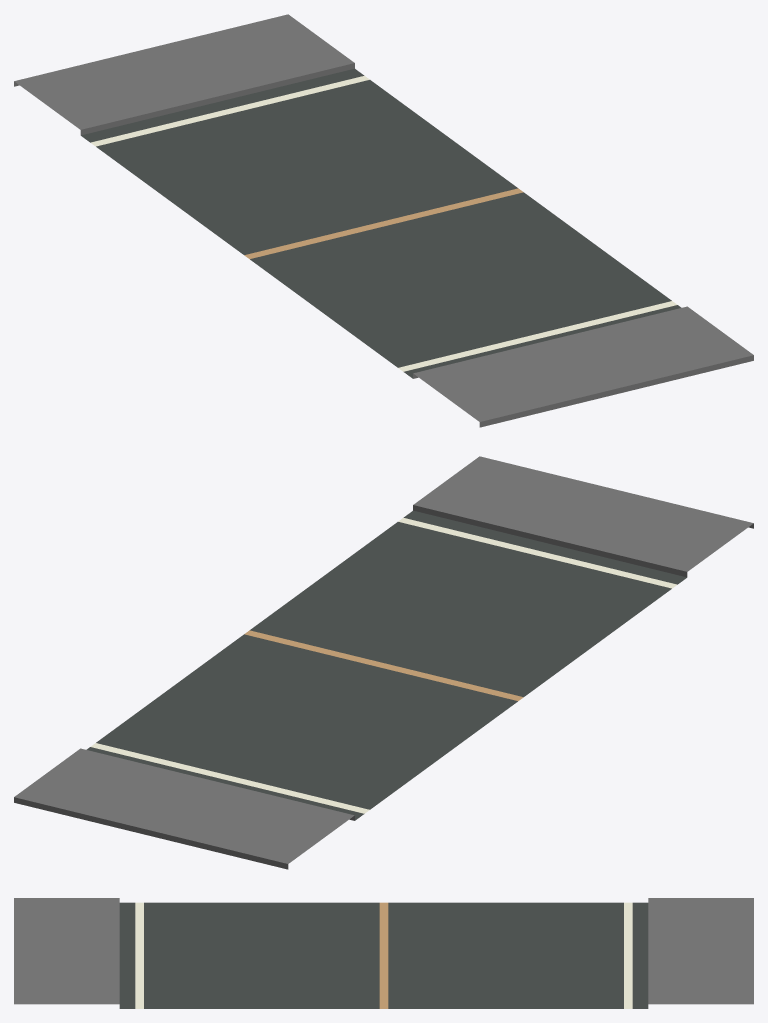
Rendered from road_normal.glb.
3 views of the same model, one above another, from view 1: azimuth 30°, elevation 25°; view 2: azimuth 150°, elevation 25°; view 3: azimuth 270°, elevation 25° (orthographic). The views are drawn at different scales.
Visible parts, largest first — view 1: Road_2_Mat_0; view 2: Road_2_Mat_0; view 3: Road_2_Mat_0.
Part boxes in pixels (x1,y1,x2,y2): Road_2_Mat_0: (14, 14, 753, 427); Road_2_Mat_0: (14, 456, 753, 869); Road_2_Mat_0: (14, 898, 753, 1008).
Size of the model in its own units: 2 by 0.039 by 5.88.
1 material, 1 textured.
